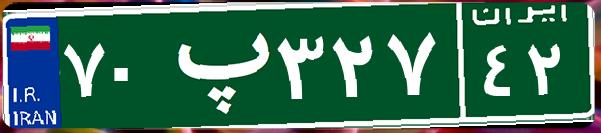0: (110, 28, 158, 105)
2: (330, 28, 385, 110), (525, 38, 570, 115)
3: (273, 28, 330, 110)
4: (475, 38, 525, 113)
7: (385, 28, 445, 110), (57, 26, 110, 107)
پ: (158, 15, 273, 115)
